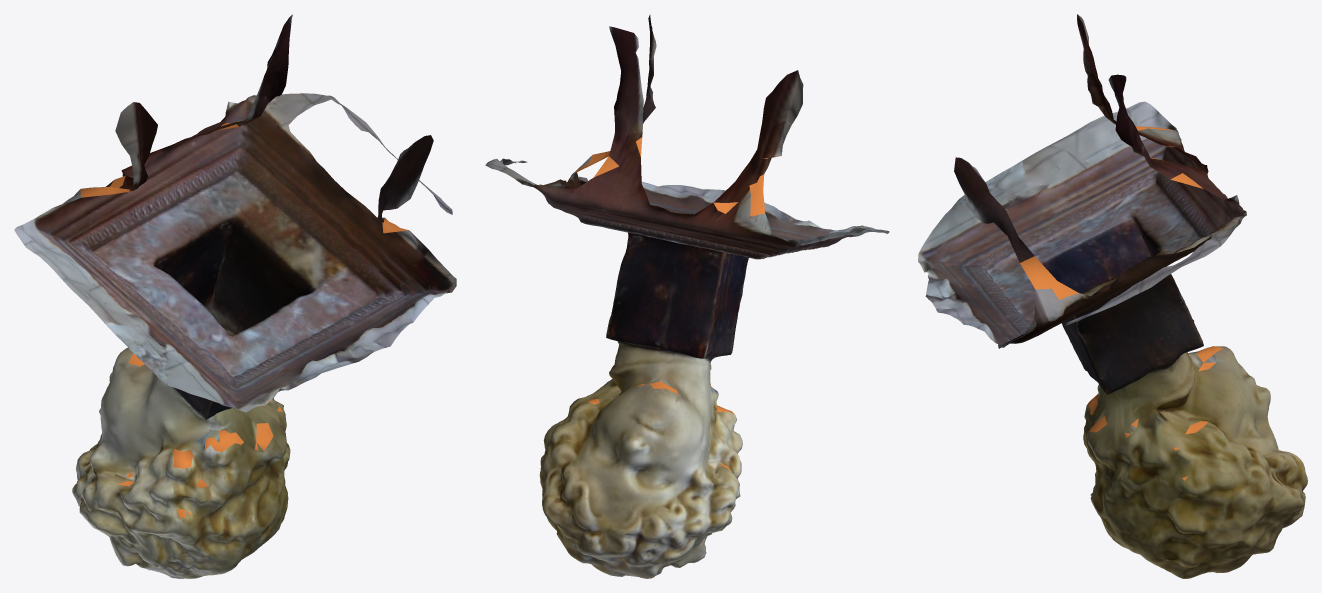
Rendered from scene_dense_mesh_refine_texture.obj.
The picture shows the model from 3 angles, left to right: view 1: azimuth 30°, elevation 25°; view 2: azimuth 150°, elevation 25°; view 3: azimuth 270°, elevation 25°; orthographic projection. The views are drawn at different scales.
Size of the model in its own units: 5.3 by 7.18 by 4.86.
1 material, 1 textured.
